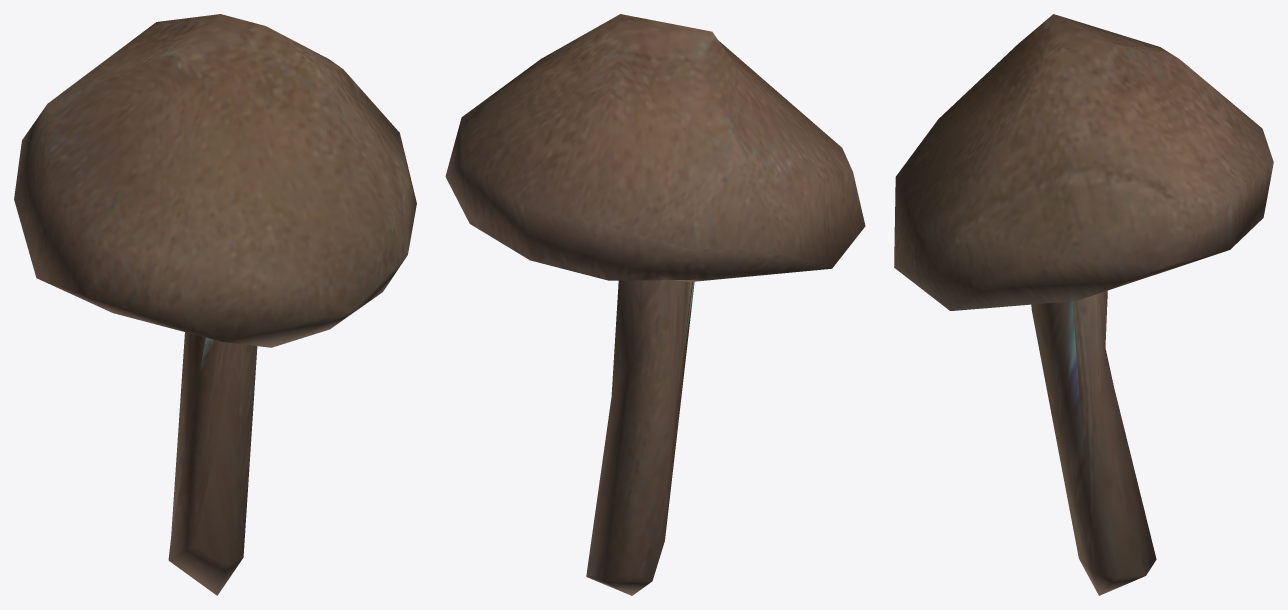
Rendered from fungus-tan-a.gltf.
3 renders of one model, left to right at view 1: azimuth 30°, elevation 25°; view 2: azimuth 150°, elevation 25°; view 3: azimuth 270°, elevation 25°, orthographic. The views are drawn at different scales.
Parts seen in each view (by area): view 1: fungus-tan-a; view 2: fungus-tan-a; view 3: fungus-tan-a.
Boxes of the visible parts, x1,y1,x2,y2 form: fungus-tan-a: [14, 14, 416, 595]; fungus-tan-a: [445, 14, 865, 595]; fungus-tan-a: [894, 14, 1273, 595].
Bounding box in the file's own units: 0.1606 × 0.244 × 0.1509.
1 material, 1 textured.
